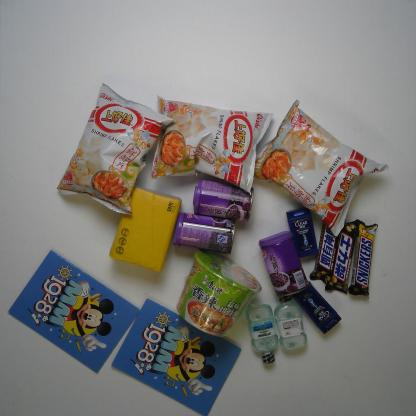Canned Food: (259, 229, 307, 299), (191, 176, 254, 225), (172, 210, 237, 257)
Chocolate: (327, 223, 360, 293), (348, 221, 378, 295), (310, 219, 341, 283)
Instant Noodles: (175, 250, 261, 340)
Personal Hygiene: (294, 282, 341, 335), (284, 207, 320, 261), (272, 298, 307, 353), (246, 305, 277, 365)
Puffed Food: (254, 99, 390, 239), (57, 80, 177, 216), (148, 96, 278, 193)
Stationery: (8, 251, 140, 376), (111, 296, 241, 416)
Tissue: (109, 185, 181, 272)
